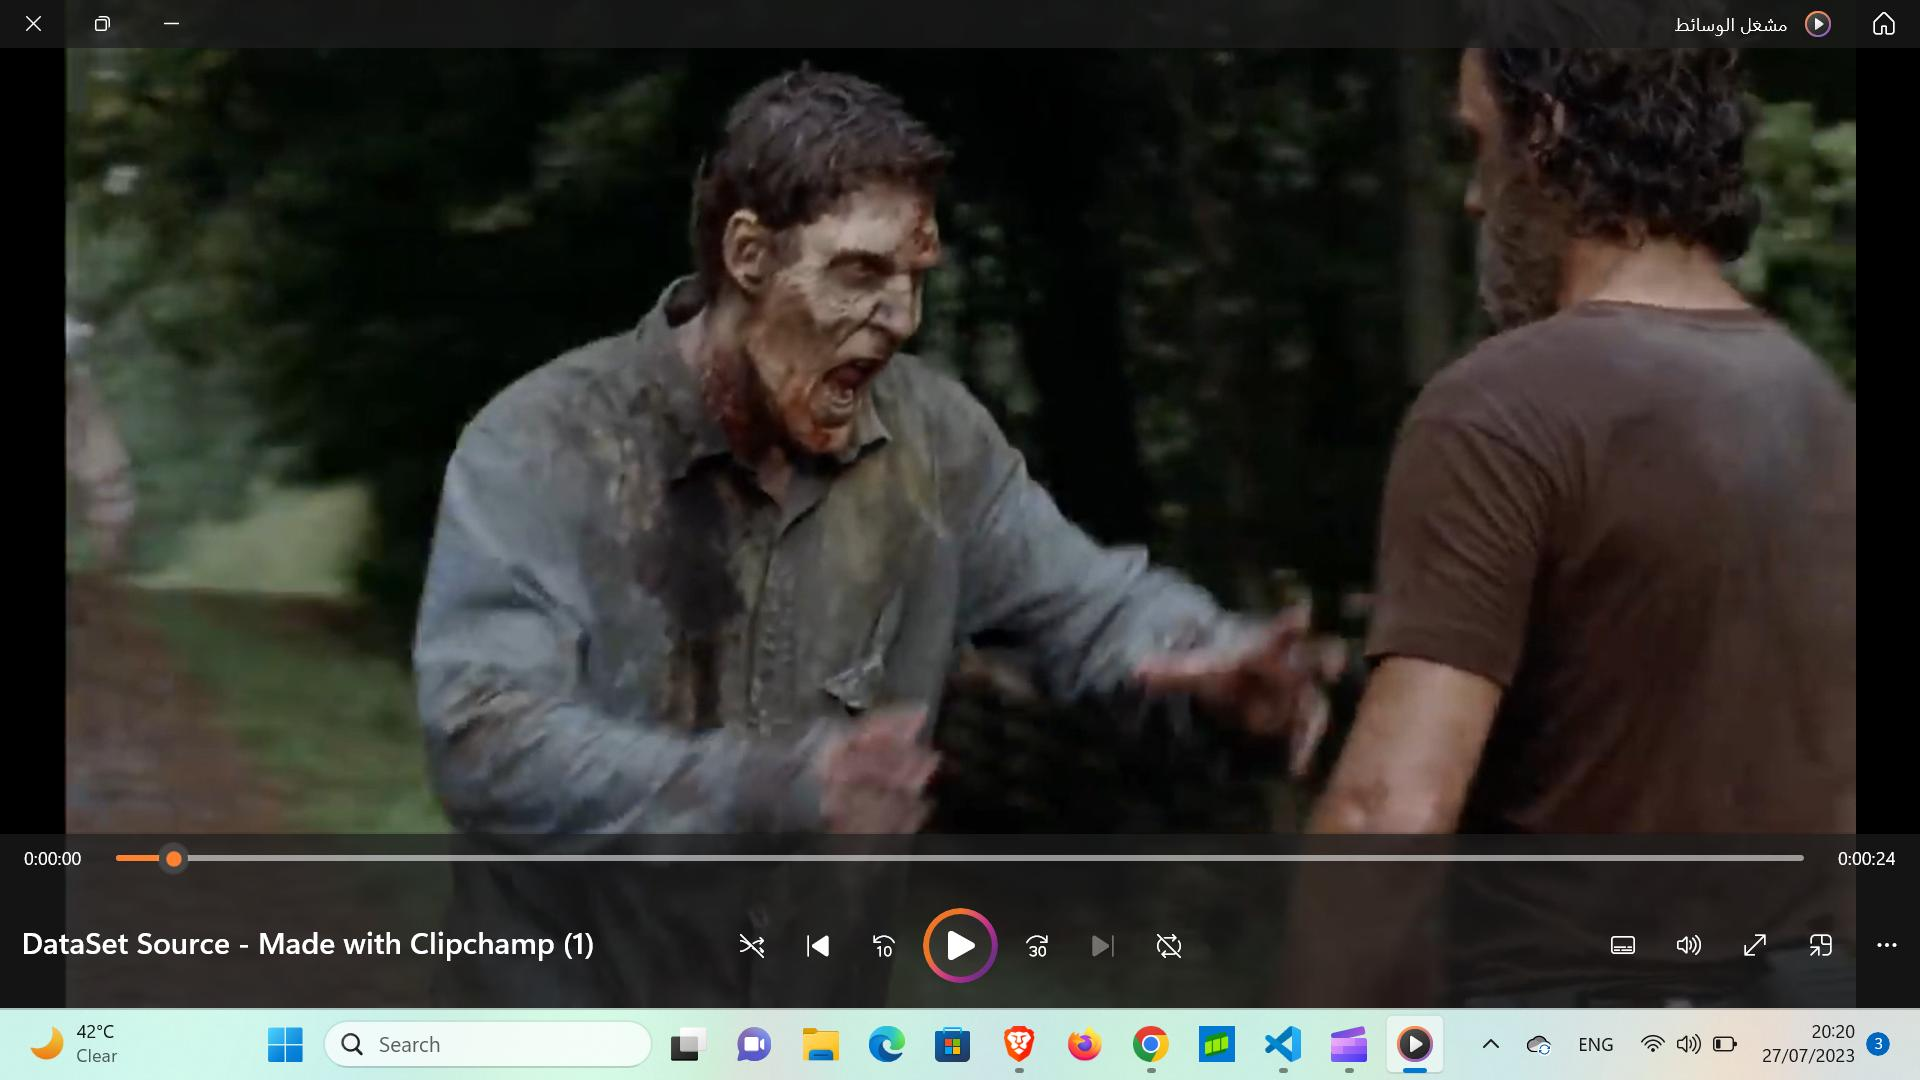Zombie: (667, 54, 959, 476)
